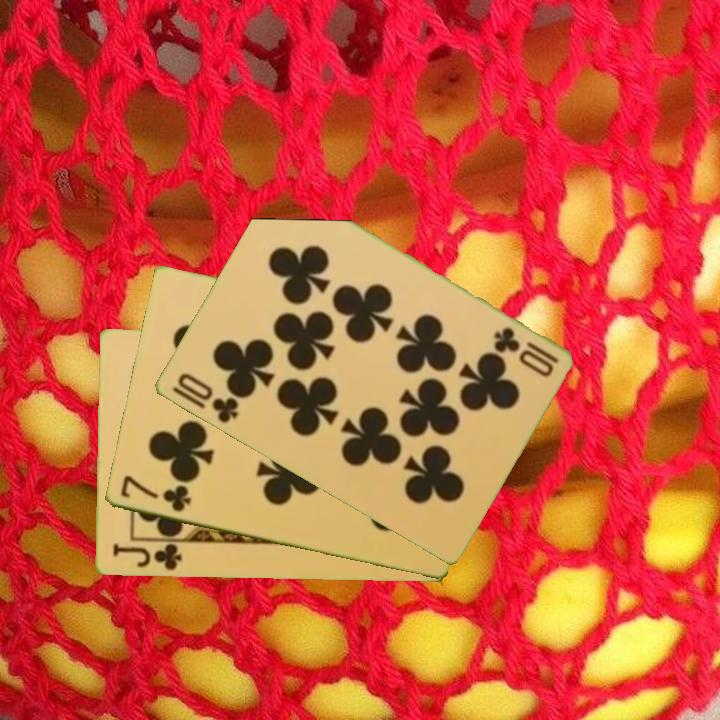10c: (173, 369, 241, 427), (489, 323, 561, 367)
7c: (116, 472, 194, 515)
Jc: (108, 539, 189, 574)
